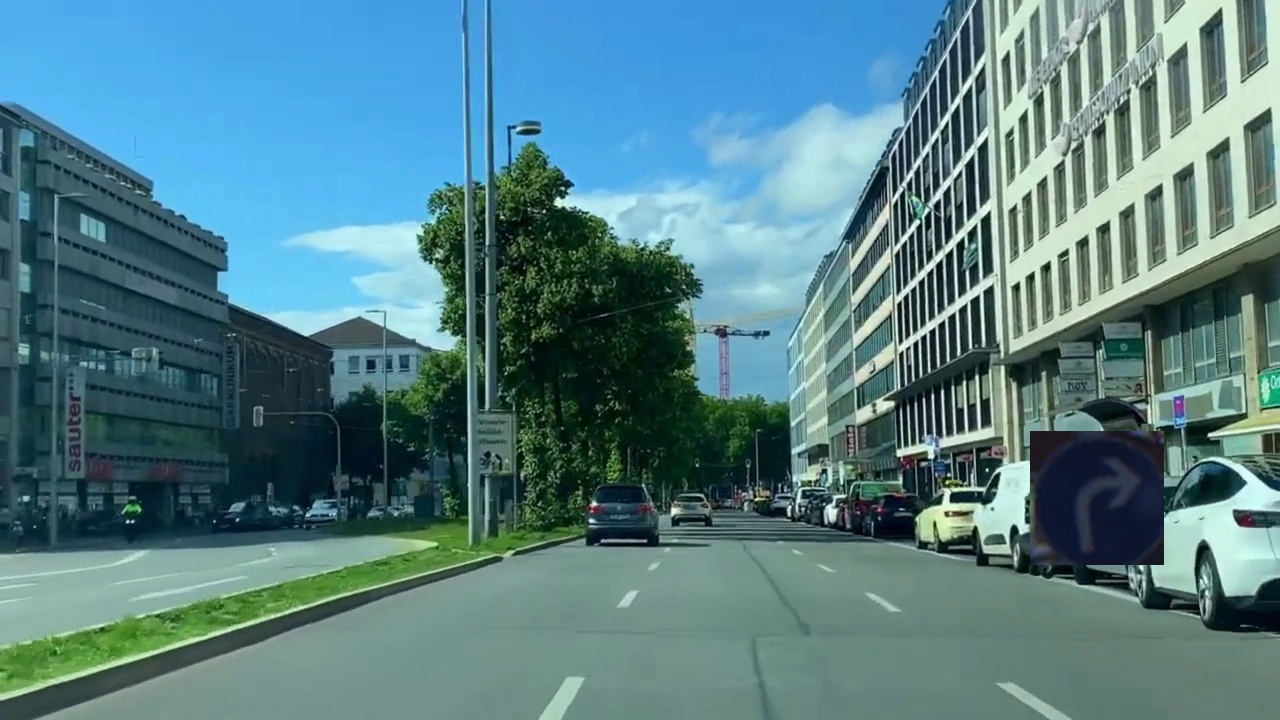Turn right: (1030, 431, 1164, 565)
